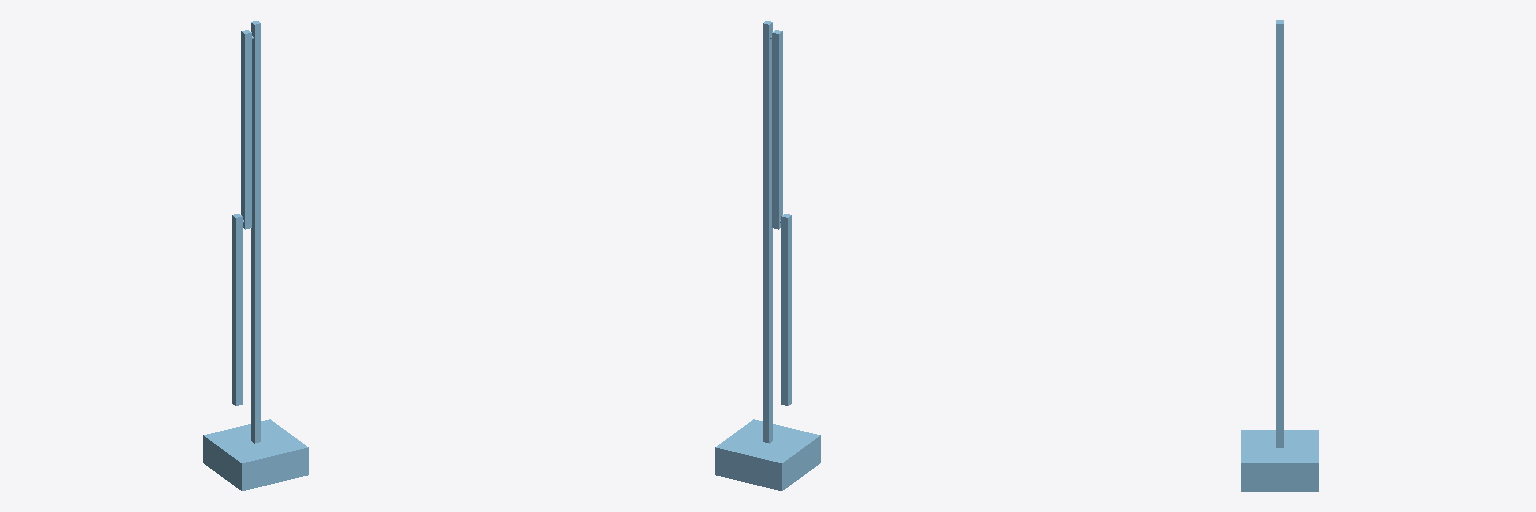
URDF robot description (acrobot):
<?xml version="1.0" ?>
<!-- Generated using onshape-to-robot -->
<!-- Onshape https://cad.onshape.com/documents/15632817fe6b72c0f56c3732/w/d629893b8f606dc1210bd639/e/7e02c595df6ca021d423e32c -->
<robot name="acrobot">
  <!-- Link part_1 -->
  <link name="part_1">
    <inertial>
      <origin xyz="0 0 0" rpy="0 0 0"/>
      <mass value="1e-09"/>
      <inertia ixx="1e-09" ixy="0" ixz="0" iyy="1e-09" iyz="0" izz="1e-09"/>
    </inertial>
    <!-- Part part_1 -->
    <visual>
      <origin xyz="0 0 0" rpy="0 -0 0"/>
      <geometry>
        <mesh filename="package://acrobot_description/acrobot/assets/part_1.stl"/>
      </geometry>
      <material name="part_1_material">
        <color rgba="0.615686 0.811765 0.929412 1"/>
      </material>
    </visual>
    <collision>
      <origin xyz="0 0 0" rpy="0 -0 0"/>
      <geometry>
        <mesh filename="package://acrobot_description/acrobot/assets/part_1.stl"/>
      </geometry>
    </collision>
    <!-- Part part_1_2 -->
    <visual>
      <origin xyz="0.155 -0.25 3.1" rpy="-1.5708 1.5708 0"/>
      <geometry>
        <mesh filename="package://acrobot_description/acrobot/assets/part_1__2.stl"/>
      </geometry>
      <material name="part_1_2_material">
        <color rgba="0.615686 0.811765 0.929412 1"/>
      </material>
    </visual>
    <collision>
      <origin xyz="0.155 -0.25 3.1" rpy="-1.5708 1.5708 0"/>
      <geometry>
        <mesh filename="package://acrobot_description/acrobot/assets/part_1__2.stl"/>
      </geometry>
    </collision>
  </link>
  <!-- Link part_1_2 -->
  <link name="part_1_2">
    <inertial>
      <origin xyz="0 0 0" rpy="0 0 0"/>
      <mass value="1e-09"/>
      <inertia ixx="1e-09" ixy="0" ixz="0" iyy="1e-09" iyz="0" izz="1e-09"/>
    </inertial>
    <!-- Part part_1_3 -->
    <visual>
      <origin xyz="1.35 0.025 0" rpy="1.5708 1.5708 0"/>
      <geometry>
        <mesh filename="package://acrobot_description/acrobot/assets/part_1__3.stl"/>
      </geometry>
      <material name="part_1_3_material">
        <color rgba="0.615686 0.811765 0.929412 1"/>
      </material>
    </visual>
    <collision>
      <origin xyz="1.35 0.025 0" rpy="1.5708 1.5708 0"/>
      <geometry>
        <mesh filename="package://acrobot_description/acrobot/assets/part_1__3.stl"/>
      </geometry>
    </collision>
    <!-- Part part_1_4 -->
    <visual>
      <origin xyz="1.3 0 0.07" rpy="1.5708 -0 -1.5708"/>
      <geometry>
        <mesh filename="package://acrobot_description/acrobot/assets/part_1__2.stl"/>
      </geometry>
      <material name="part_1_4_material">
        <color rgba="0.615686 0.811765 0.929412 1"/>
      </material>
    </visual>
    <collision>
      <origin xyz="1.3 0 0.07" rpy="1.5708 -0 -1.5708"/>
      <geometry>
        <mesh filename="package://acrobot_description/acrobot/assets/part_1__2.stl"/>
      </geometry>
    </collision>
  </link>
  <!-- Link part_1_3 -->
  <link name="part_1_3">
    <inertial>
      <origin xyz="0 0 0" rpy="0 0 0"/>
      <mass value="1e-09"/>
      <inertia ixx="1e-09" ixy="0" ixz="0" iyy="1e-09" iyz="0" izz="1e-09"/>
    </inertial>
    <!-- Part part_1_5 -->
    <visual>
      <origin xyz="0.05 0.025 0" rpy="1.5708 1.5708 0"/>
      <geometry>
        <mesh filename="package://acrobot_description/acrobot/assets/part_1__4.stl"/>
      </geometry>
      <material name="part_1_5_material">
        <color rgba="0.615686 0.811765 0.929412 1"/>
      </material>
    </visual>
    <collision>
      <origin xyz="0.05 0.025 0" rpy="1.5708 1.5708 0"/>
      <geometry>
        <mesh filename="package://acrobot_description/acrobot/assets/part_1__4.stl"/>
      </geometry>
    </collision>
  </link>
  <!-- Joint from part_1_2 to part_1_3 -->
  <joint name="continuous_revolute_2" type="continuous">
    <origin xyz="1.3 0 0.07" rpy="0 -0 3.14159"/>
    <parent link="part_1_2"/>
    <child link="part_1_3"/>
    <axis xyz="0 0 1"/>
    <limit effort="10" velocity="10"/>
  </joint>
  <!-- Joint from part_1 to part_1_2 -->
  <joint name="continuous_revolute_1" type="continuous">
    <origin xyz="0.155 -0.25 3.1" rpy="-3.14159 1.5708 0"/>
    <parent link="part_1"/>
    <child link="part_1_2"/>
    <axis xyz="0 0 1"/>
    <limit effort="10" velocity="10"/>
  </joint>
</robot>

--- Facts derived from the render (not from the file) ---
The picture shows the robot from 3 angles, left to right: view 1: azimuth 30°, elevation 25°; view 2: azimuth 150°, elevation 25°; view 3: azimuth 270°, elevation 25°; orthographic projection.
Model acrobot with 3 links and 2 joints (2 continuous), rooted at part_1, posed all joints at 0.
Links seen in each view (by area): view 1: part_1, part_1_2, part_1_3; view 2: part_1, part_1_2, part_1_3; view 3: part_1.
Boxes of the visible links, bbox=[...] form: part_1: bbox=[203, 21, 308, 490]; part_1_2: bbox=[233, 30, 251, 229]; part_1_3: bbox=[232, 214, 242, 405]; part_1: bbox=[715, 21, 820, 490]; part_1_2: bbox=[772, 30, 790, 229]; part_1_3: bbox=[781, 214, 791, 405]; part_1: bbox=[1241, 20, 1318, 491].
Size in the robot's own frame: 0.5 by 0.5 by 3.2 metres.
Meshes: 4 distinct files referenced, 5 mesh visuals loaded (4 binary STL).